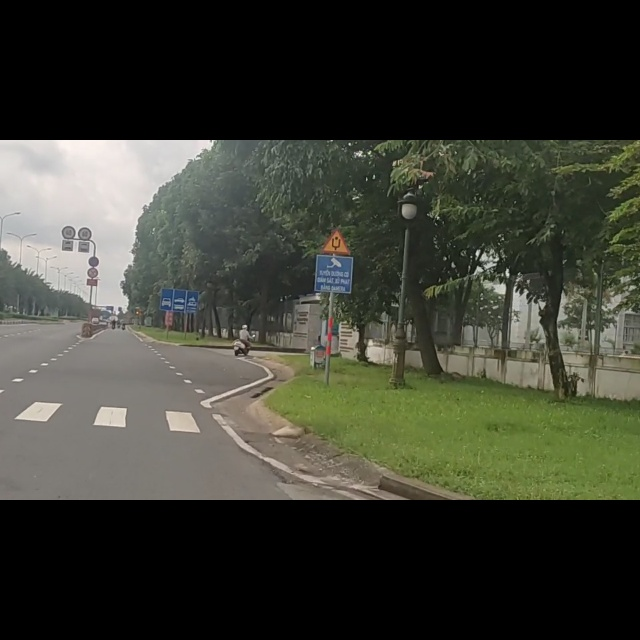bien_nguy_hiem: (159, 262, 200, 308), (322, 156, 351, 204), (61, 153, 75, 175), (78, 154, 91, 177)
